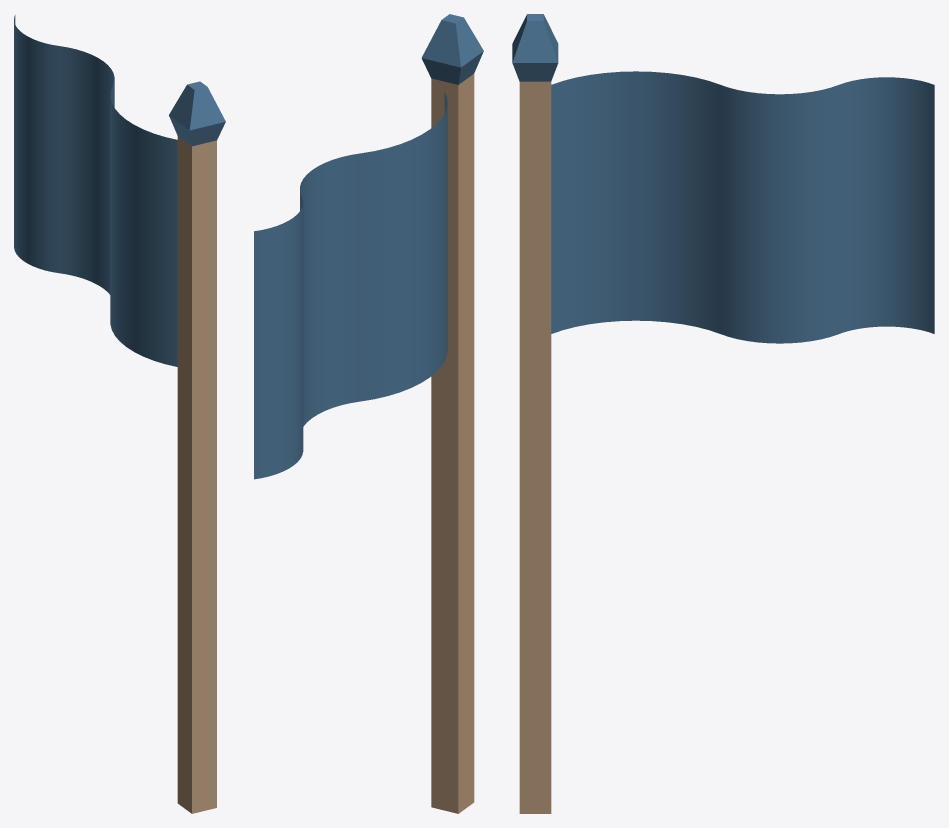
Rendered from flagBlueWide.obj.
The picture shows the model from 3 angles, left to right: view 1: azimuth 30°, elevation 25°; view 2: azimuth 150°, elevation 25°; view 3: azimuth 270°, elevation 25°; orthographic projection. The views are drawn at different scales.
Parts seen in each view (by area): view 1: Group 284, flagBlueWide; view 2: Group 284, flagBlueWide; view 3: Group 284, flagBlueWide.
Part boxes in pixels (x1,y1,x2,y2): Group 284: (14, 15, 177, 366); flagBlueWide: (169, 81, 225, 813); Group 284: (254, 92, 447, 479); flagBlueWide: (421, 14, 483, 813); Group 284: (551, 71, 934, 343); flagBlueWide: (512, 14, 558, 813).
Size of the model in its own units: 0.4988 by 7.92 by 3.84.
